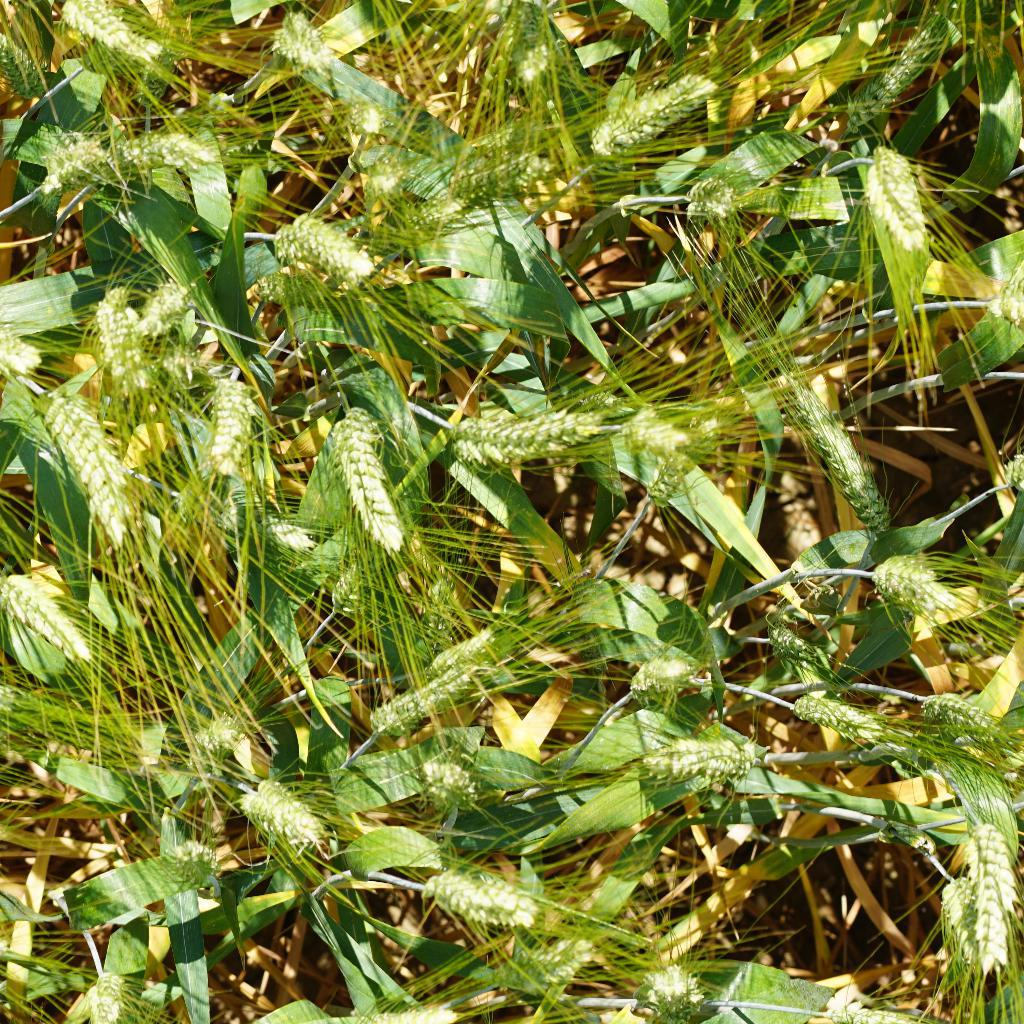0-0: (772, 366, 900, 537), (30, 388, 139, 548), (578, 53, 717, 169), (326, 393, 421, 553), (822, 7, 950, 124), (407, 847, 560, 940), (436, 396, 628, 462), (430, 116, 563, 210), (0, 563, 100, 671), (960, 806, 1023, 972), (43, 0, 175, 79), (361, 661, 503, 731), (268, 208, 385, 292), (19, 122, 122, 204), (107, 115, 215, 193), (860, 137, 935, 249), (643, 727, 770, 791), (230, 770, 331, 848), (488, 935, 600, 1005), (200, 358, 264, 479), (85, 283, 153, 396), (787, 683, 900, 751), (605, 384, 699, 463), (858, 546, 960, 616), (627, 945, 717, 1024), (164, 688, 251, 763), (265, 7, 354, 78), (911, 684, 1008, 744), (402, 620, 504, 677), (402, 747, 484, 817), (935, 859, 989, 965), (494, 0, 561, 85), (818, 985, 964, 1024), (619, 632, 698, 699), (161, 830, 232, 904), (253, 504, 331, 570), (638, 445, 705, 515), (672, 165, 743, 230), (358, 152, 419, 227), (1, 27, 52, 110), (142, 276, 195, 347), (79, 960, 137, 1024), (983, 261, 1024, 345), (324, 555, 374, 623), (339, 93, 403, 145), (0, 321, 49, 387), (153, 342, 206, 402), (765, 621, 819, 664), (466, 0, 563, 18)
